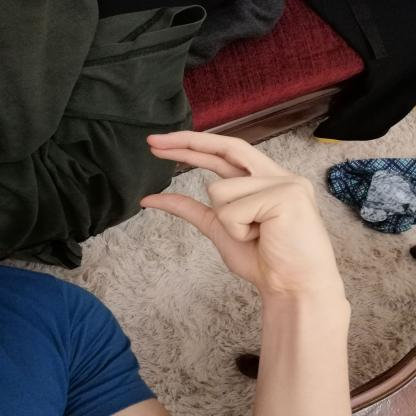DHELL: (128, 121, 356, 309)
